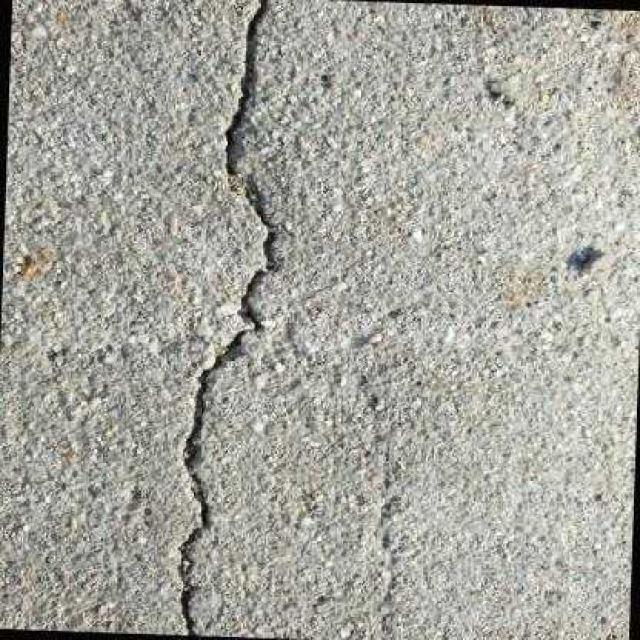D00: (173, 0, 283, 636)
